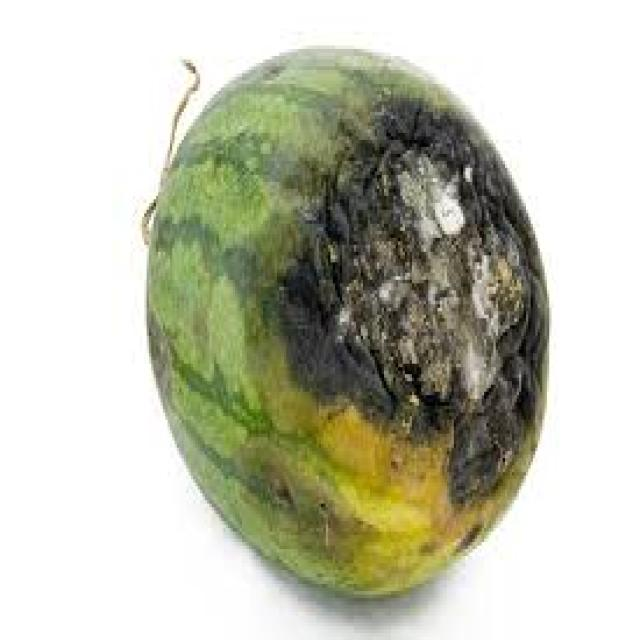Watermelon: (149, 35, 549, 606)
